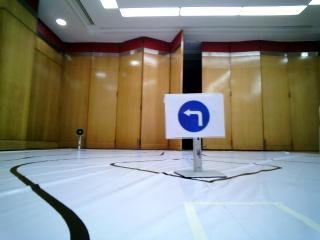left: (166, 95, 224, 136)
